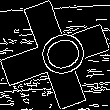O_W: (24, 26, 86, 84)
